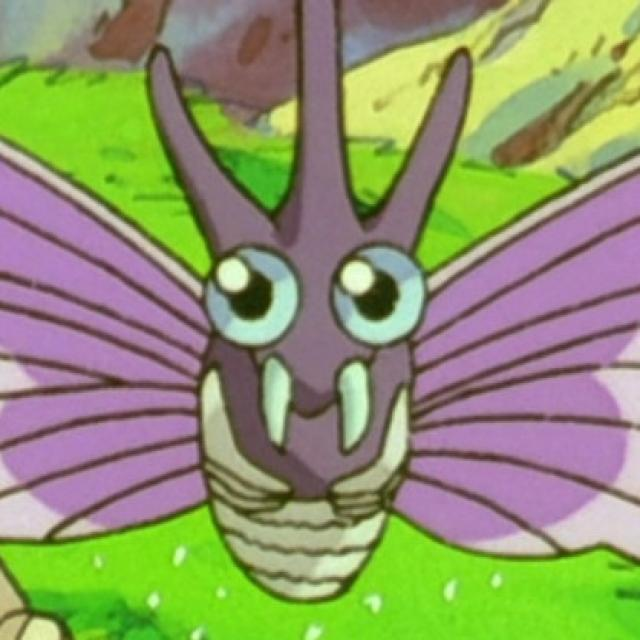Venomoth: (69, 114, 536, 607)
